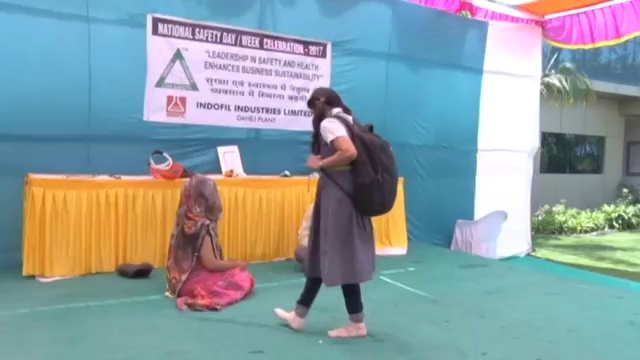helmet_off: (178, 175, 222, 220), (307, 86, 343, 118)
person: (272, 86, 400, 339), (165, 174, 254, 313)
